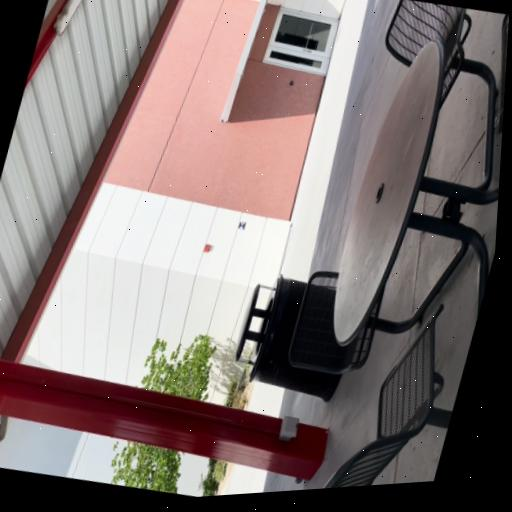target9: (237, 219, 246, 231)
